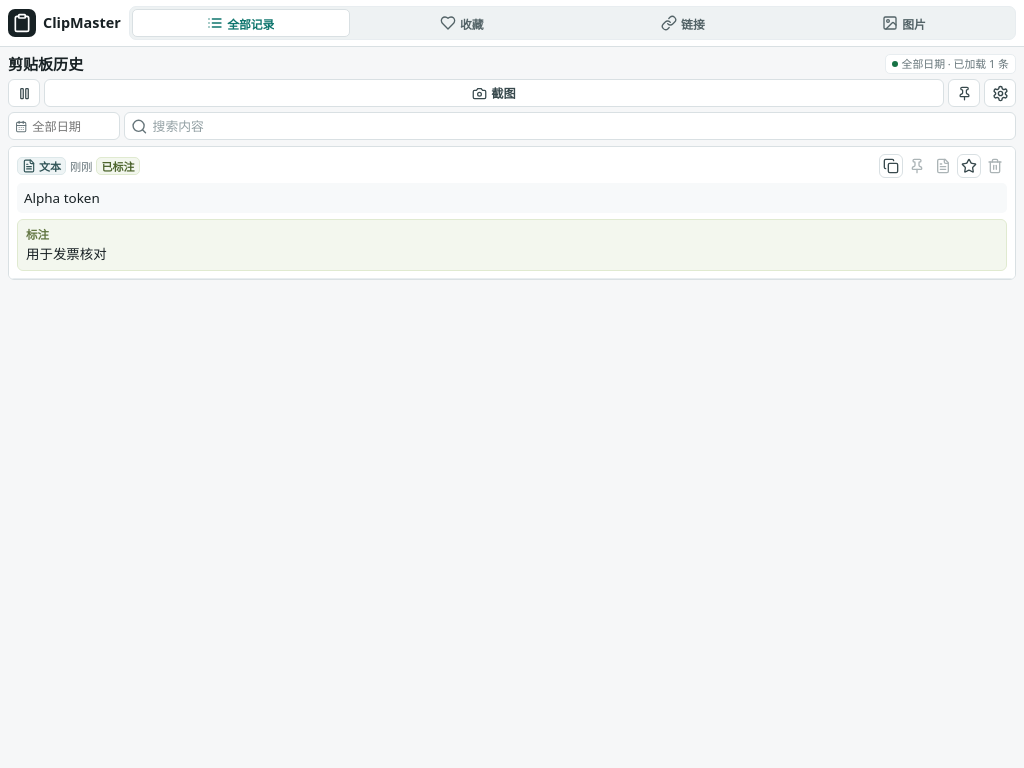
App UI › asks for confirmation before deleting annotated records
Expected: the button "Alpha token" is shown, [17, 183, 1007, 213]
Click the button named "删除 Alpha token".
click(995, 166)  # box [983, 154, 1007, 178]
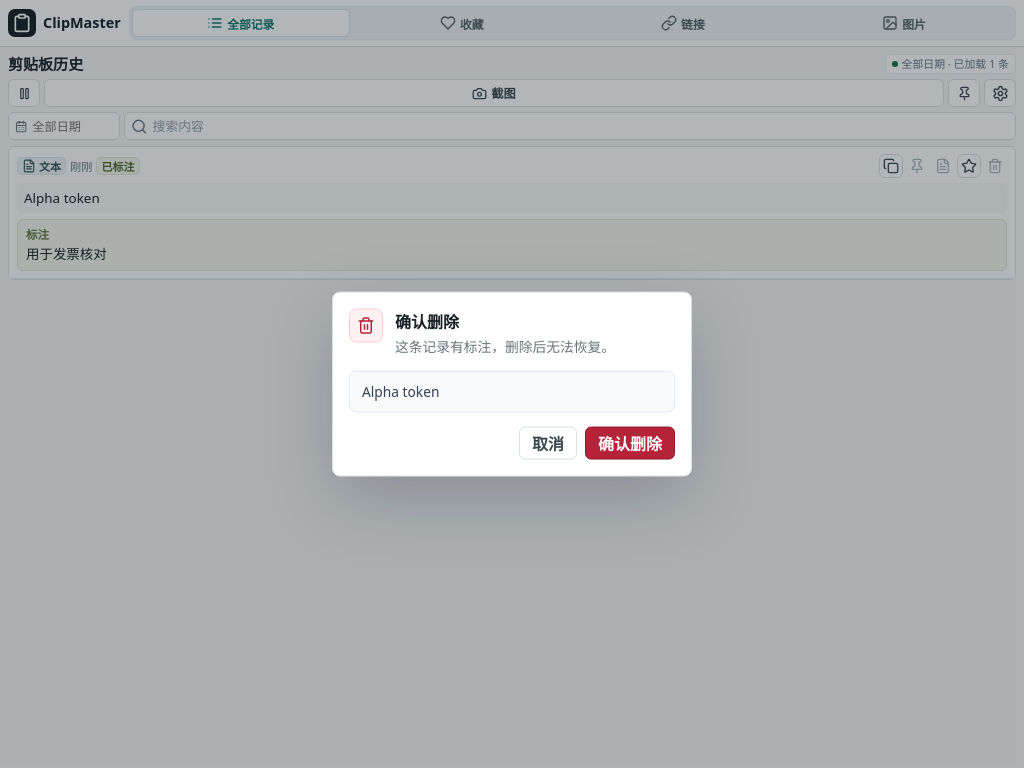
Expected: the text "有标注" is shown, [395, 336, 615, 356]
